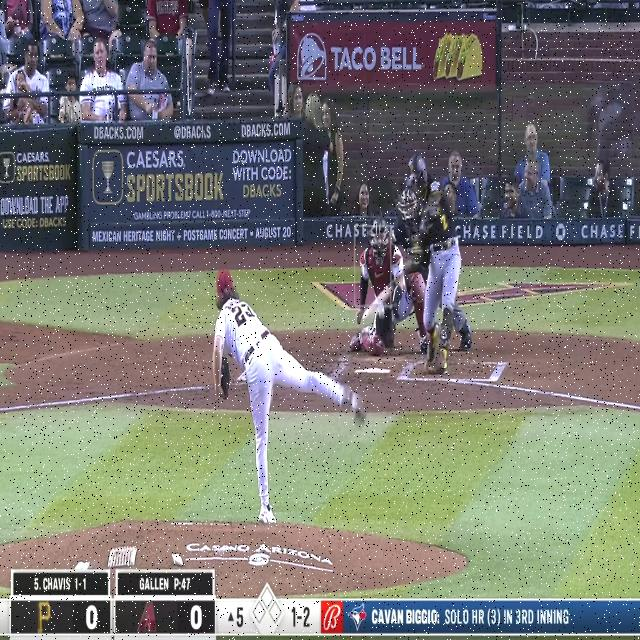baseball: (378, 302, 385, 320)
